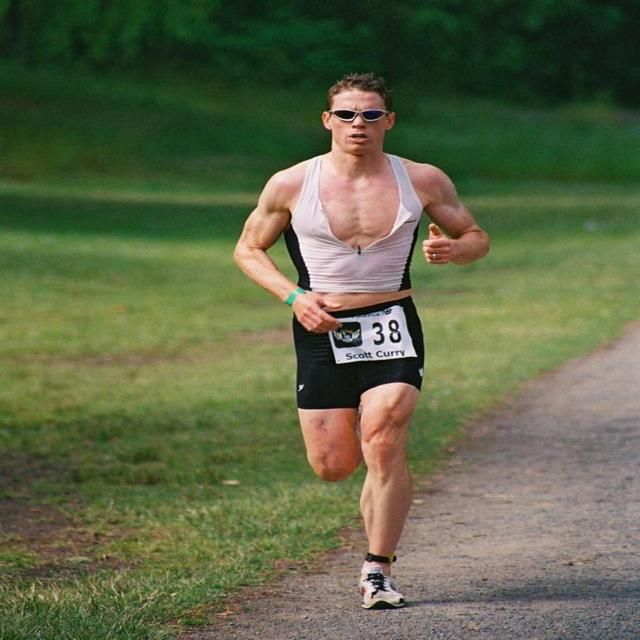Face: (319, 88, 410, 162)
